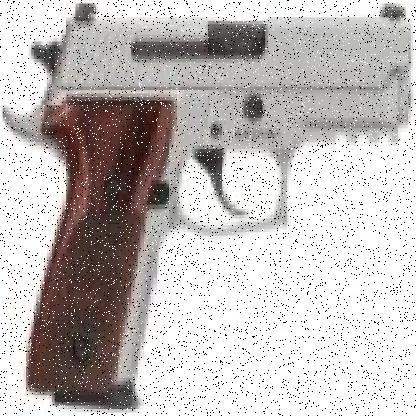pistol: (5, 3, 411, 402)
